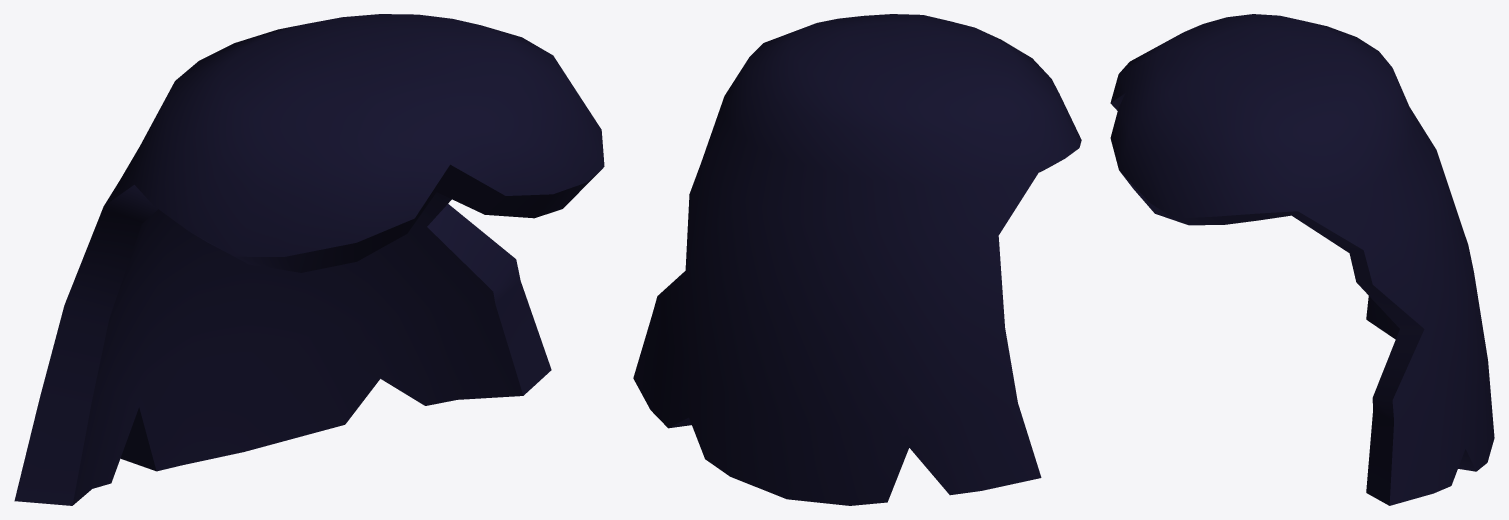
Rendered from cloak.fbx.
The picture shows the model from 3 angles, left to right: view 1: azimuth 30°, elevation 25°; view 2: azimuth 150°, elevation 25°; view 3: azimuth 270°, elevation 25°; orthographic projection. The views are drawn at different scales.
Parts seen in each view (by area): view 1: cloak; view 2: cloak; view 3: cloak.
Boxes of the visible parts, left/top/right/bottom form: cloak: left=14, top=14, right=604, bottom=505; cloak: left=633, top=14, right=1081, bottom=505; cloak: left=1110, top=14, right=1494, bottom=505.
Size of the model in its own units: 88.29 by 76.93 by 69.41.
